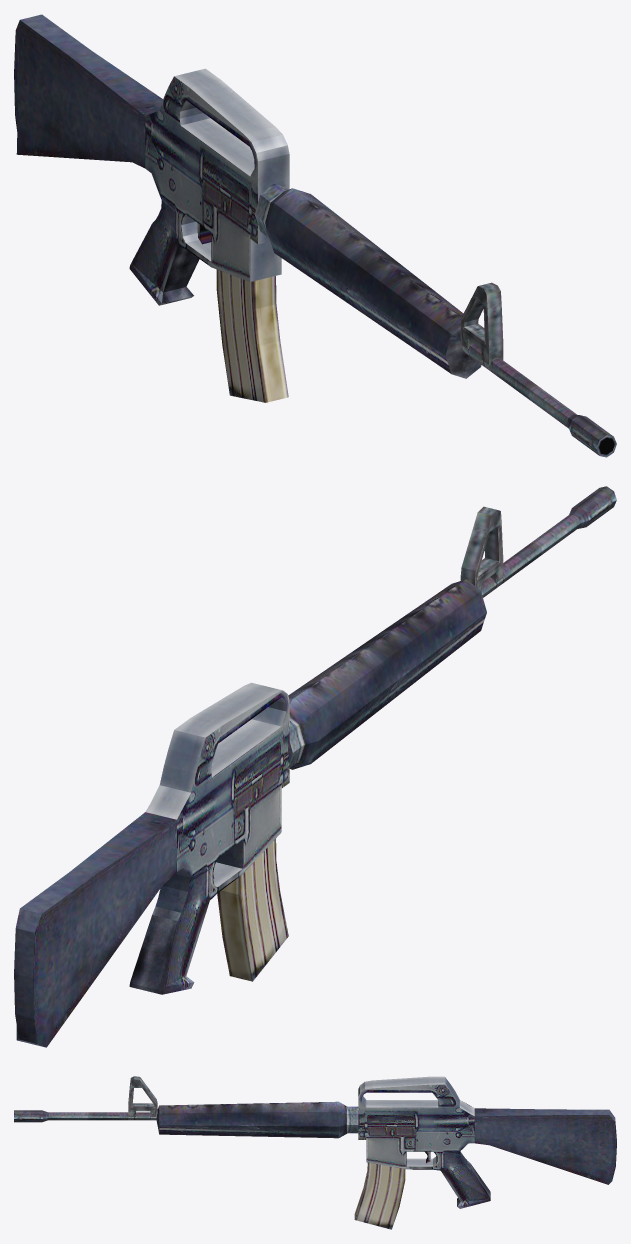
Rendered from Weapon_M16.fbx.
3 renders of one model, top to bottom at view 1: azimuth 30°, elevation 25°; view 2: azimuth 150°, elevation 25°; view 3: azimuth 270°, elevation 25°, orthographic. The views are drawn at different scales.
Parts seen in each view (by area): view 1: mesh03; view 2: mesh03; view 3: mesh03.
Boxes of the visible parts, bbox=[...] form: mesh03: bbox=[14, 14, 616, 457]; mesh03: bbox=[14, 486, 616, 1047]; mesh03: bbox=[14, 1076, 616, 1229].
Bounding box in the file's own units: 4.87 × 25.81 × 94.71.
